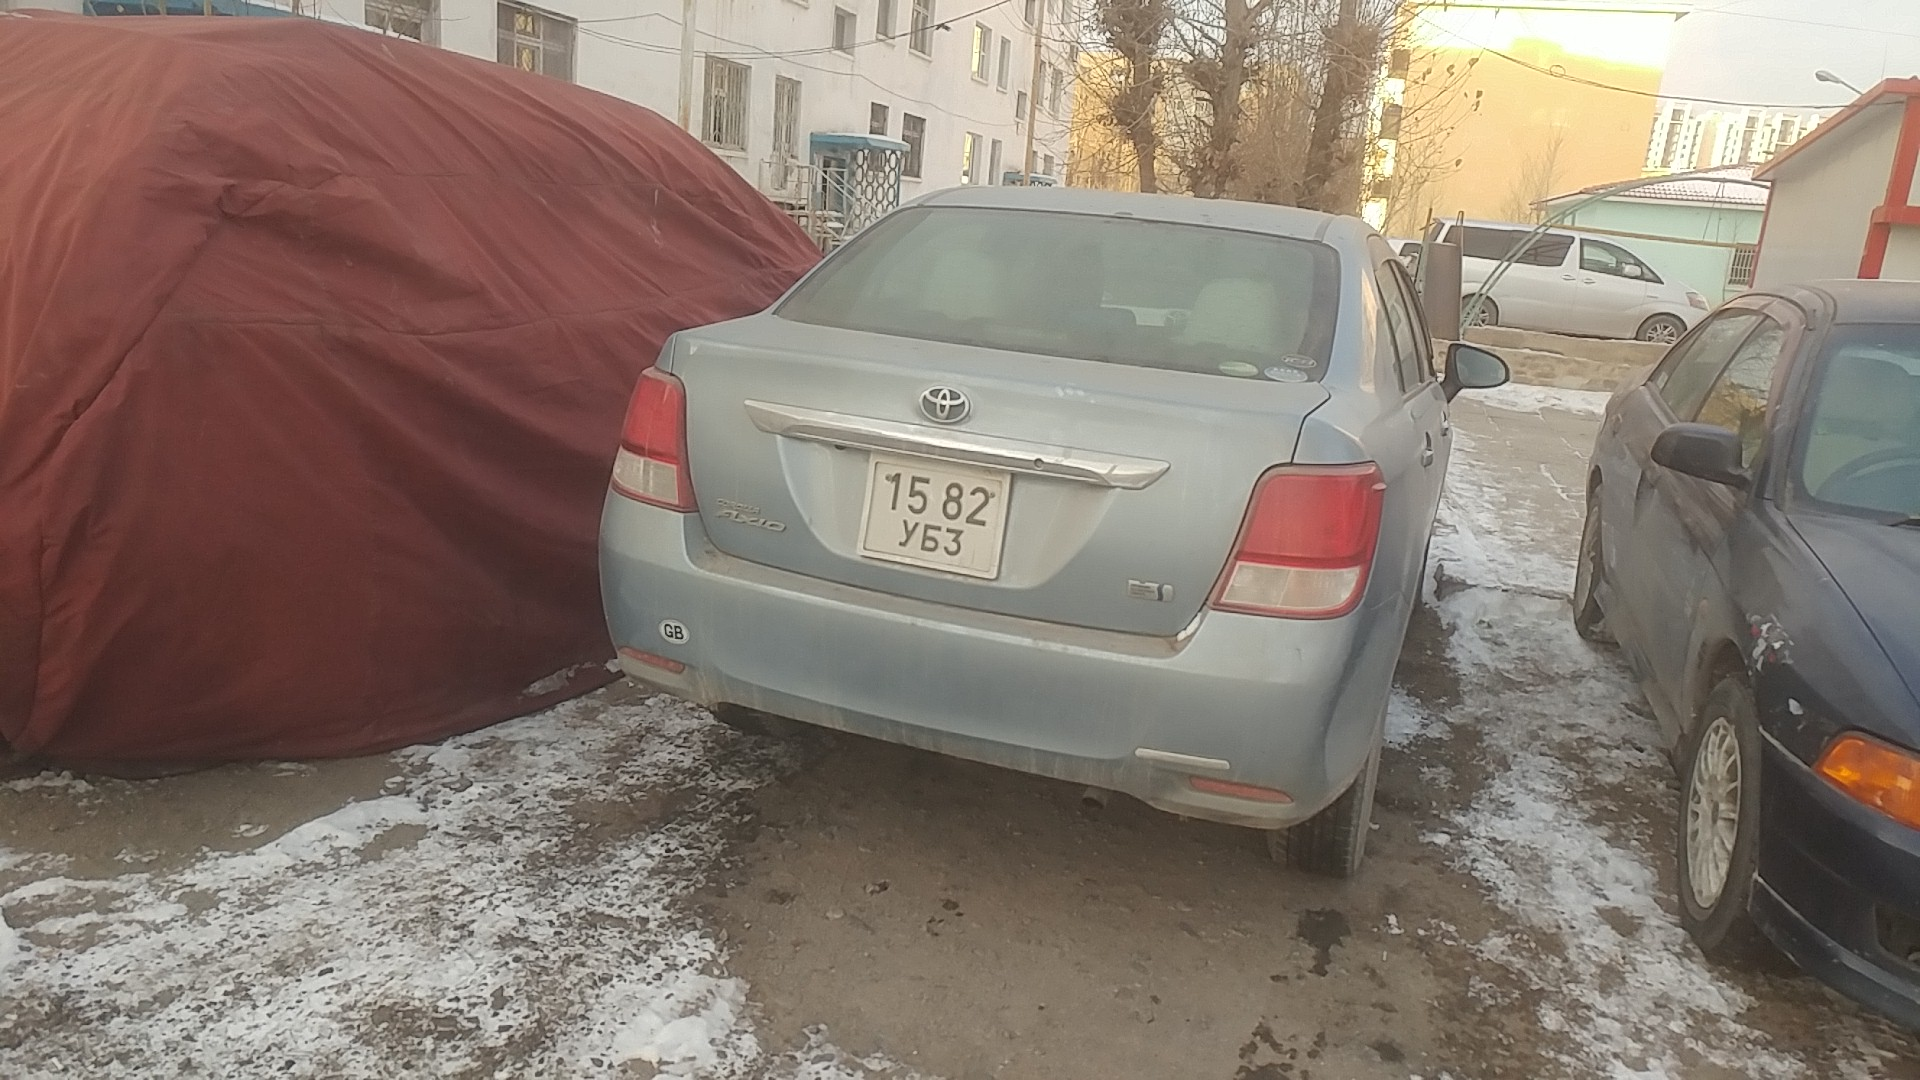1: (888, 472, 903, 510)
2: (965, 485, 990, 527)
5: (907, 475, 933, 514)
8: (939, 480, 965, 520)
b: (918, 523, 942, 553)
plate: (855, 444, 1016, 583)
u: (897, 518, 920, 547)
z: (941, 527, 963, 557)
